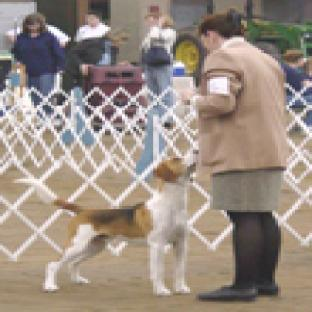Animal: (14, 154, 193, 293)
Human: (182, 10, 286, 300)
